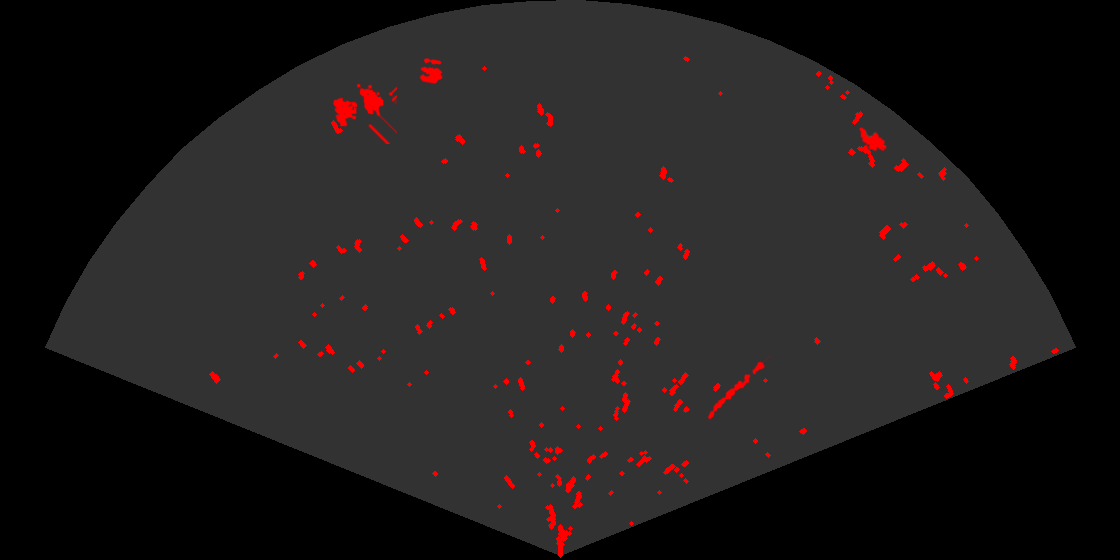AUV: (857, 126, 888, 153)
ball: (418, 57, 444, 85)
cage: (331, 82, 397, 144)
chain: (706, 353, 771, 421)
